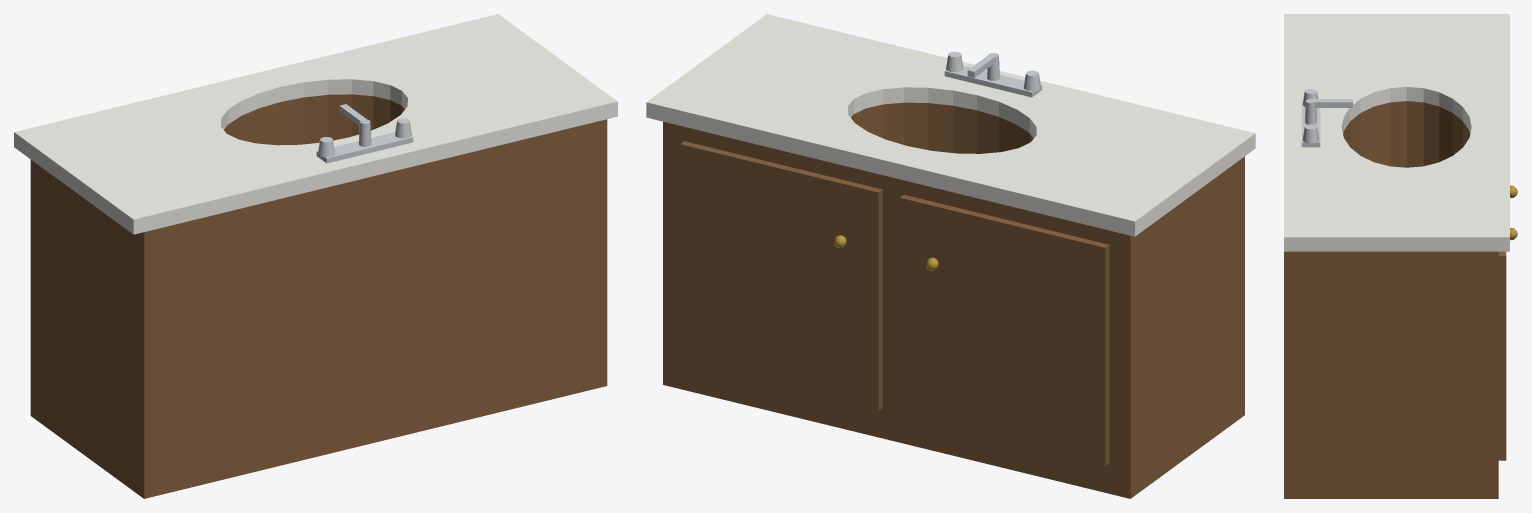
File: vanity.glb
3 views of the same model, side by side, from view 1: azimuth 30°, elevation 25°; view 2: azimuth 150°, elevation 25°; view 3: azimuth 270°, elevation 25° (orthographic). The views are drawn at different scales.
Parts seen in each view (by area): view 1: vanity; view 2: vanity; view 3: vanity.
Boxes of the visible parts, box(x1,y1,x2,y2) form: vanity: box(14, 14, 617, 498); vanity: box(646, 14, 1255, 498); vanity: box(1284, 14, 1517, 498).
Bounding box in the file's own units: 5.03 × 3.08 × 2.23.
